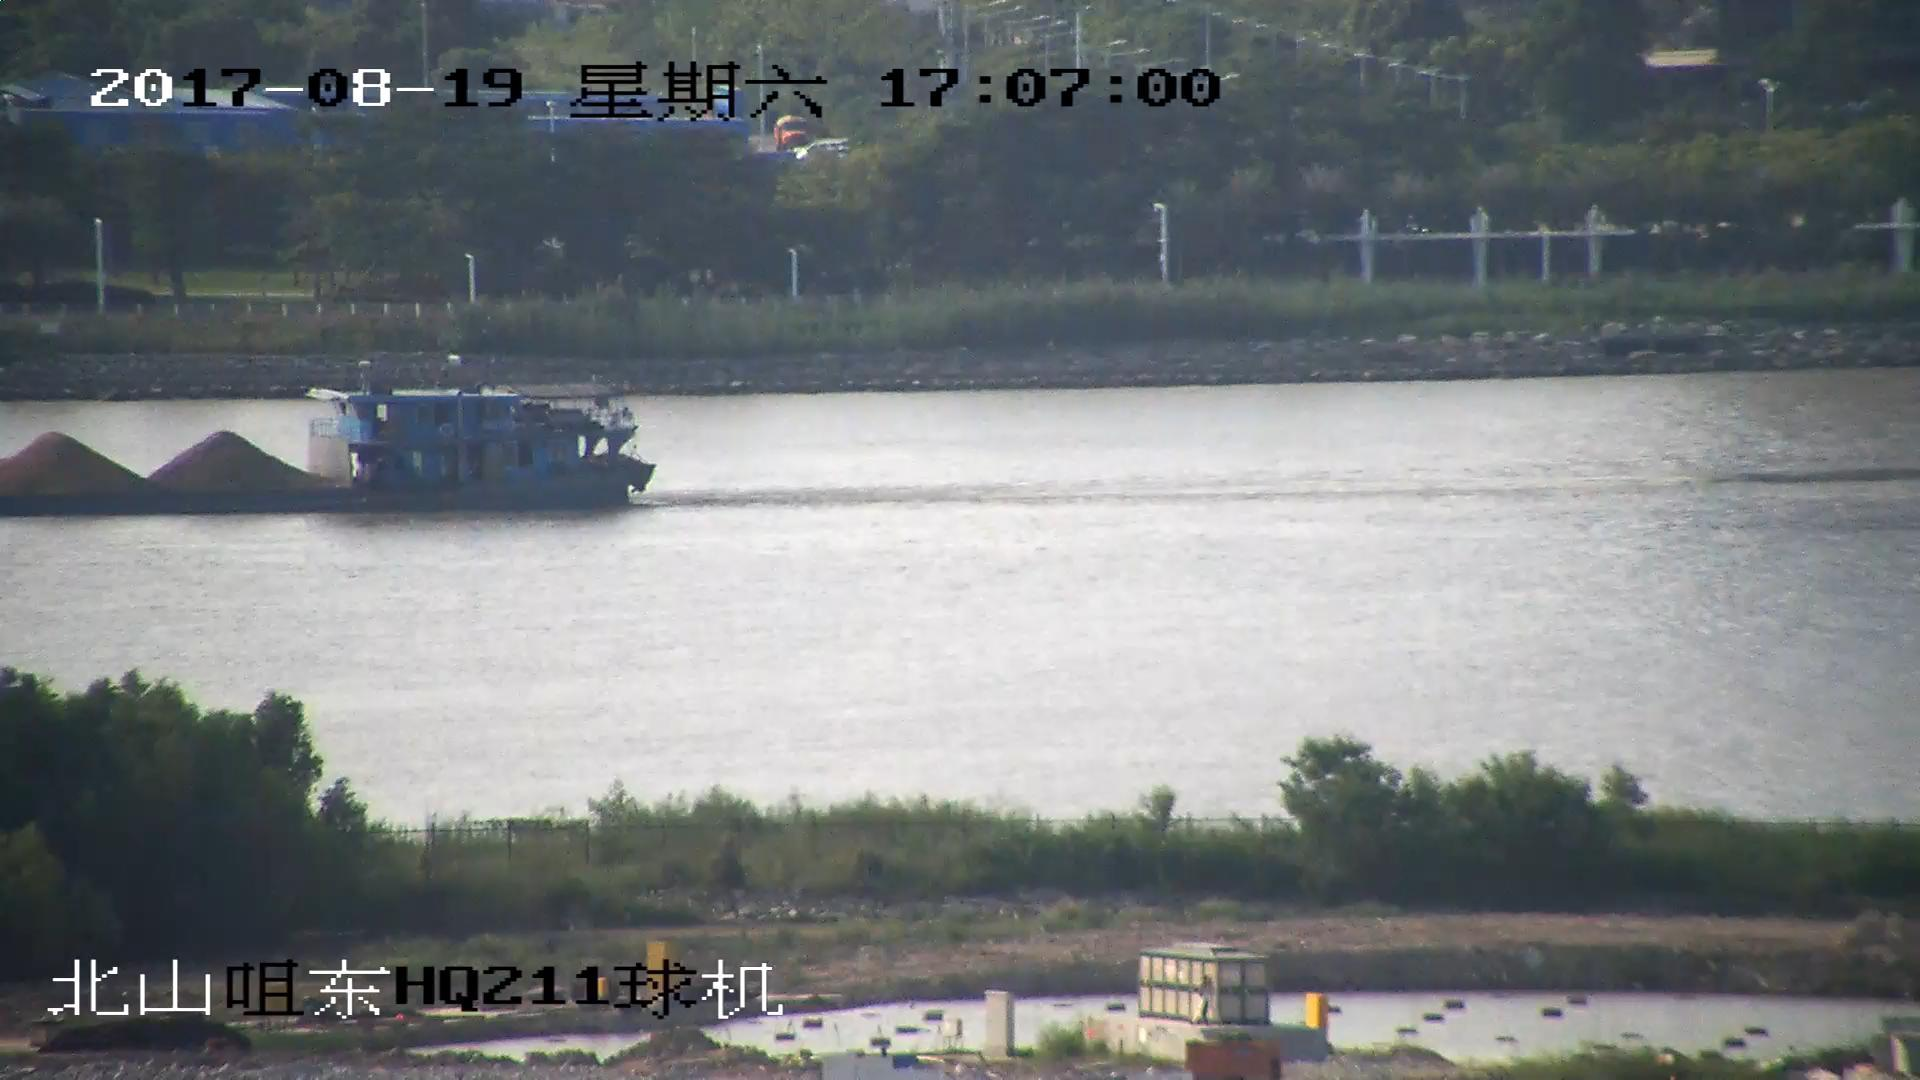Ship: (3, 347, 655, 516)
